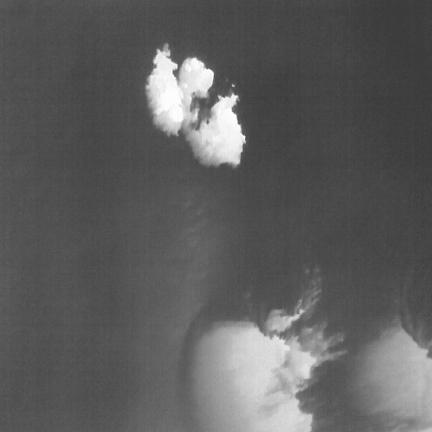flukeprints: (186, 308, 341, 431), (146, 47, 245, 165), (350, 327, 431, 431)
